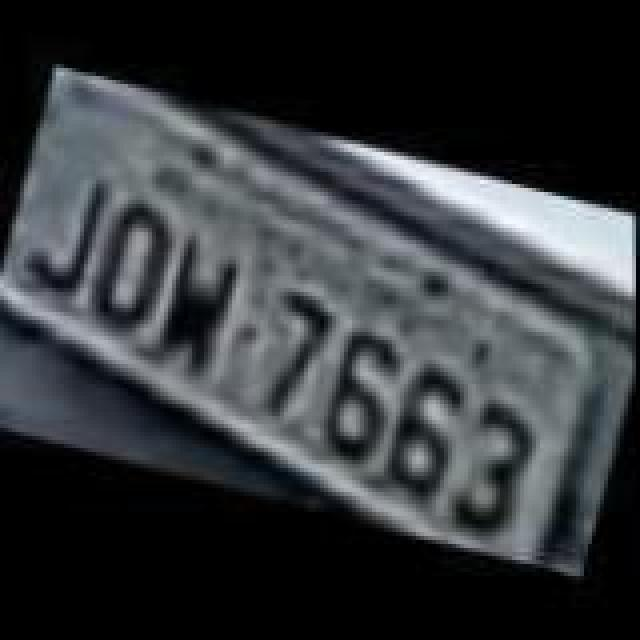3: (442, 390, 550, 542)
6: (372, 356, 480, 500), (314, 320, 418, 468)
7: (244, 284, 340, 432)
J: (18, 160, 118, 296)
O: (80, 196, 184, 340)
W: (142, 230, 250, 386)
